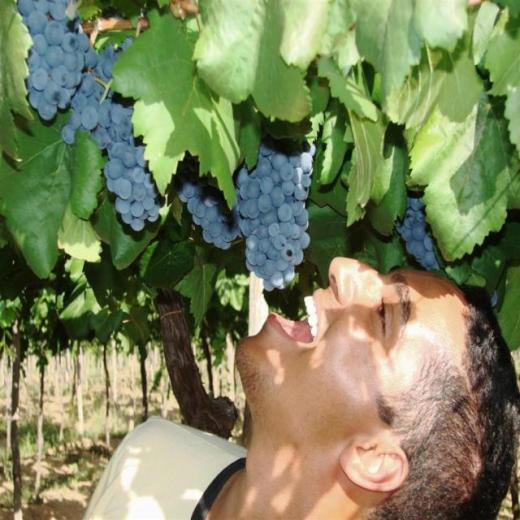Orange: (15, 0, 168, 235), (173, 153, 319, 294), (395, 195, 443, 270)
